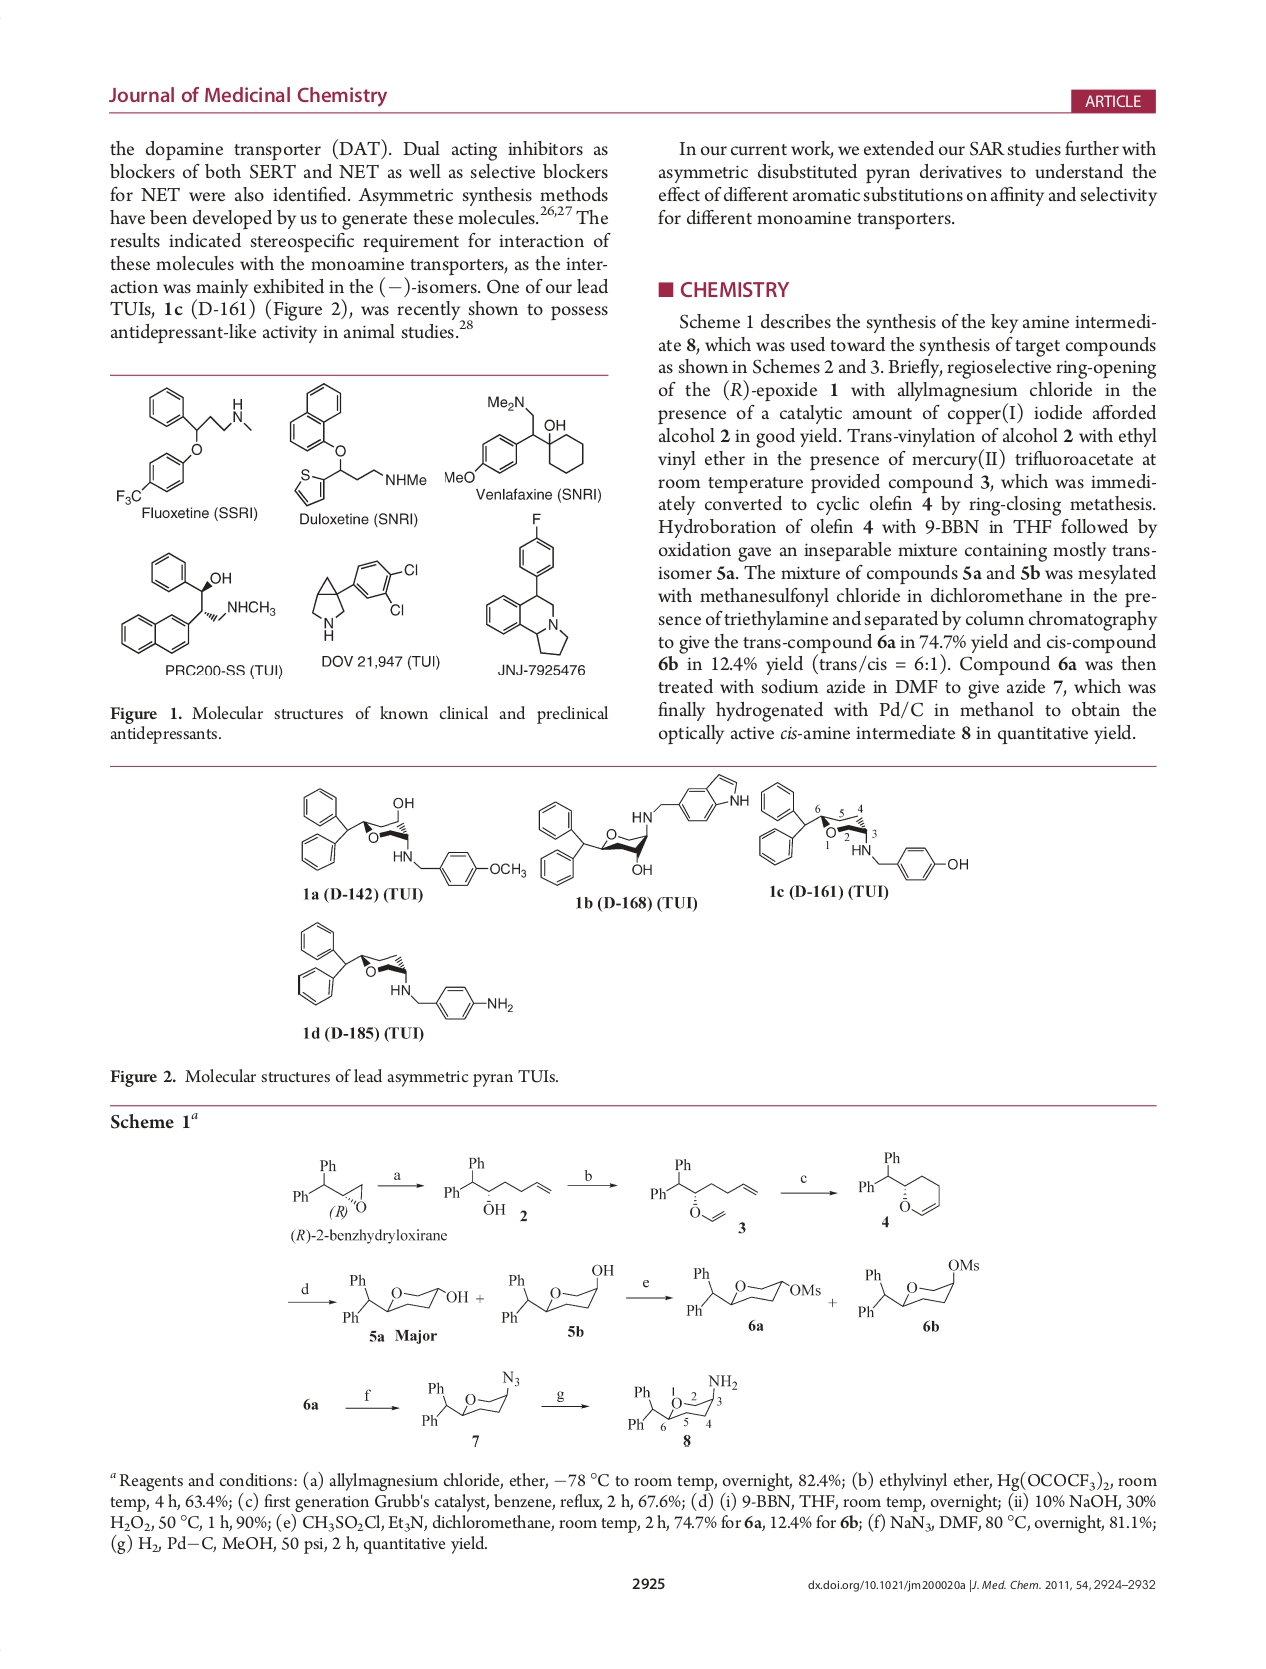exist_molecular: (533, 770, 751, 888), (295, 783, 527, 888), (754, 777, 973, 883), (293, 918, 515, 1021), (278, 380, 428, 511), (114, 547, 282, 657), (113, 383, 255, 507), (440, 388, 590, 485), (480, 509, 576, 657), (297, 555, 422, 646), (678, 1262, 821, 1321), (645, 1154, 761, 1226), (852, 1258, 981, 1322), (493, 1261, 617, 1327), (336, 1267, 471, 1326), (620, 1370, 741, 1434), (440, 1154, 557, 1218), (414, 1367, 523, 1430), (855, 1148, 944, 1218), (285, 1154, 368, 1213)
